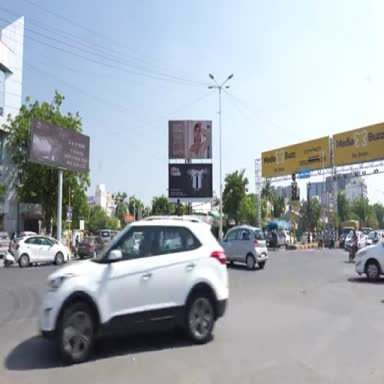Car: (39, 220, 228, 363), (220, 226, 268, 269), (14, 236, 70, 267), (355, 240, 383, 279), (78, 236, 104, 259), (0, 232, 10, 258), (366, 231, 383, 246), (356, 231, 365, 248), (18, 232, 37, 238), (301, 232, 308, 244)
